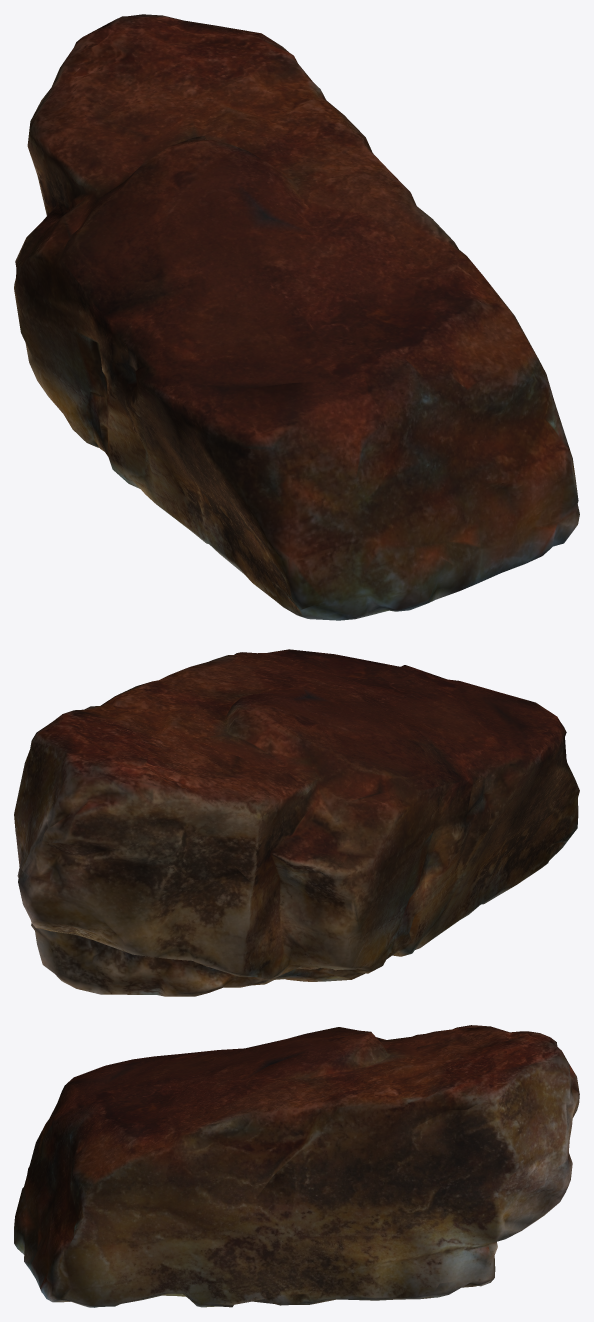
The model's file is rock_07.glb.
3 views of the same model, one above another, from view 1: azimuth 30°, elevation 25°; view 2: azimuth 150°, elevation 25°; view 3: azimuth 270°, elevation 25° (orthographic). The views are drawn at different scales.
Parts seen in each view (by area): view 1: rock_07; view 2: rock_07; view 3: rock_07.
Boxes of the visible parts, bbox=[...] form: rock_07: bbox=[14, 14, 579, 620]; rock_07: bbox=[14, 649, 579, 996]; rock_07: bbox=[14, 1025, 579, 1307].
Size of the model in its own units: 0.1681 by 0.1437 by 0.3199.
Materials: 1 (1 with a texture image).
